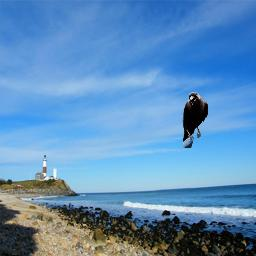Crow: (182, 92, 208, 148)
